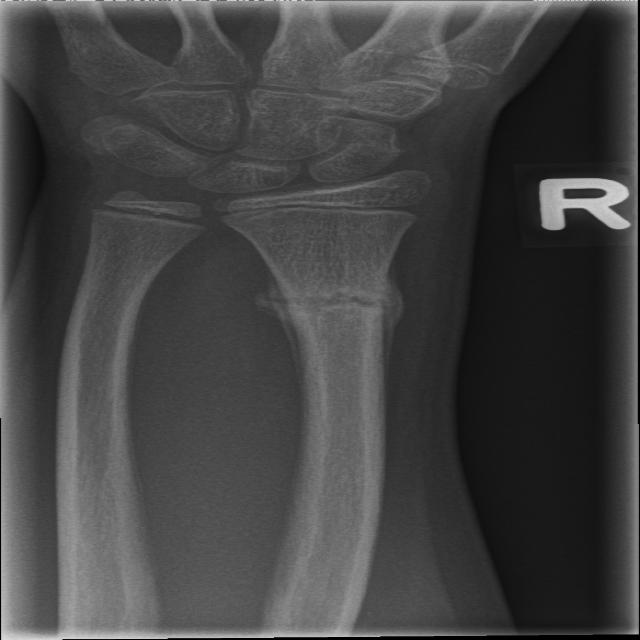radius fracture: (248, 243, 441, 450)
